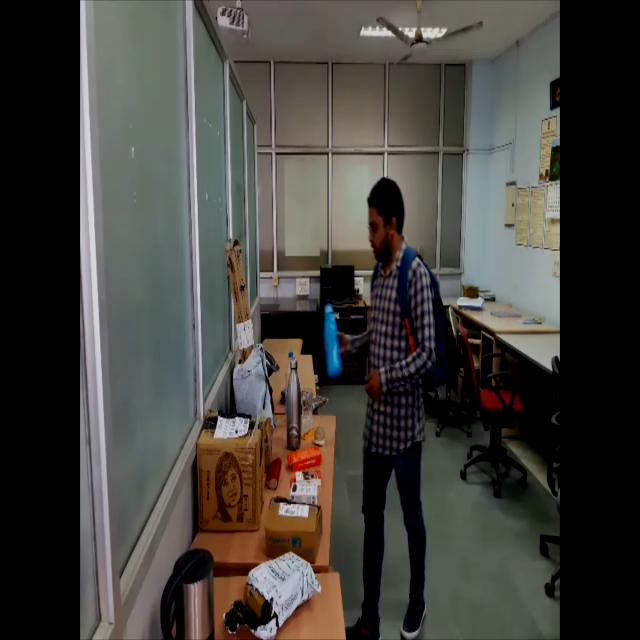normal: (320, 177, 458, 640)
